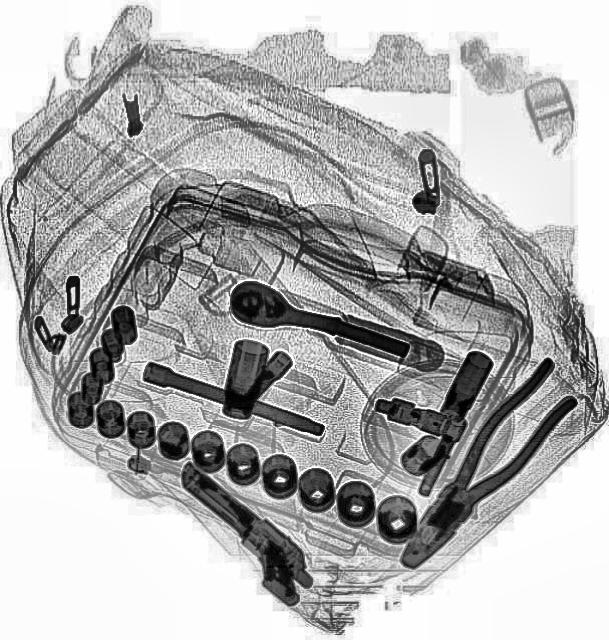Gun: (154, 458, 326, 610)
Pliers: (381, 352, 589, 584)
